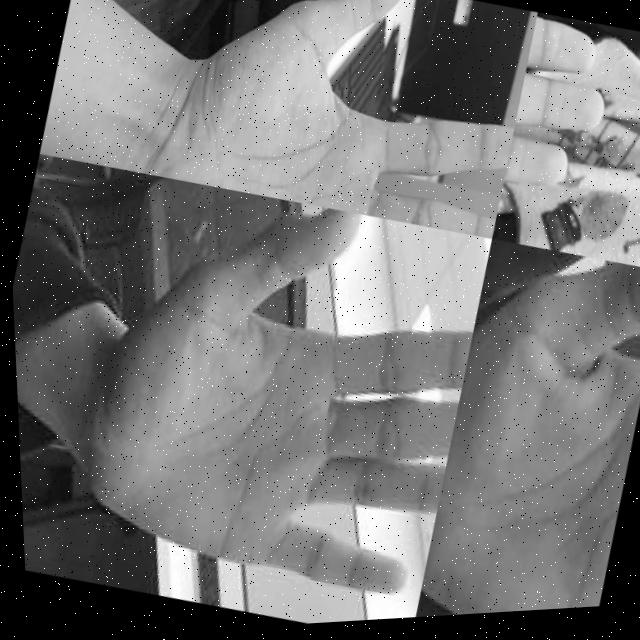hand: (49, 158, 501, 630), (115, 0, 543, 262), (388, 237, 640, 622), (480, 15, 630, 266)
